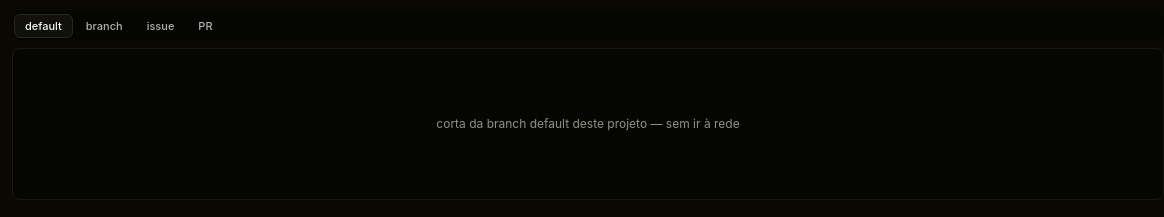
Test: as quatro origens › a PR cuja head não está no clone é clicável, e a nota anuncia a busca
Step 1. Click the button "PR" → (205, 26), box [187, 14, 224, 38]
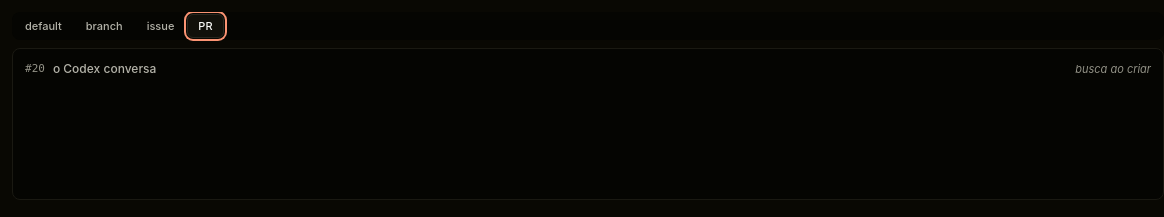
Expected: the option "#20 o Codex conversa busca ao criar" is enabled, [17, 53, 1159, 85]
Expected: the text "busca ao criar" is shown, [1075, 62, 1151, 76]
